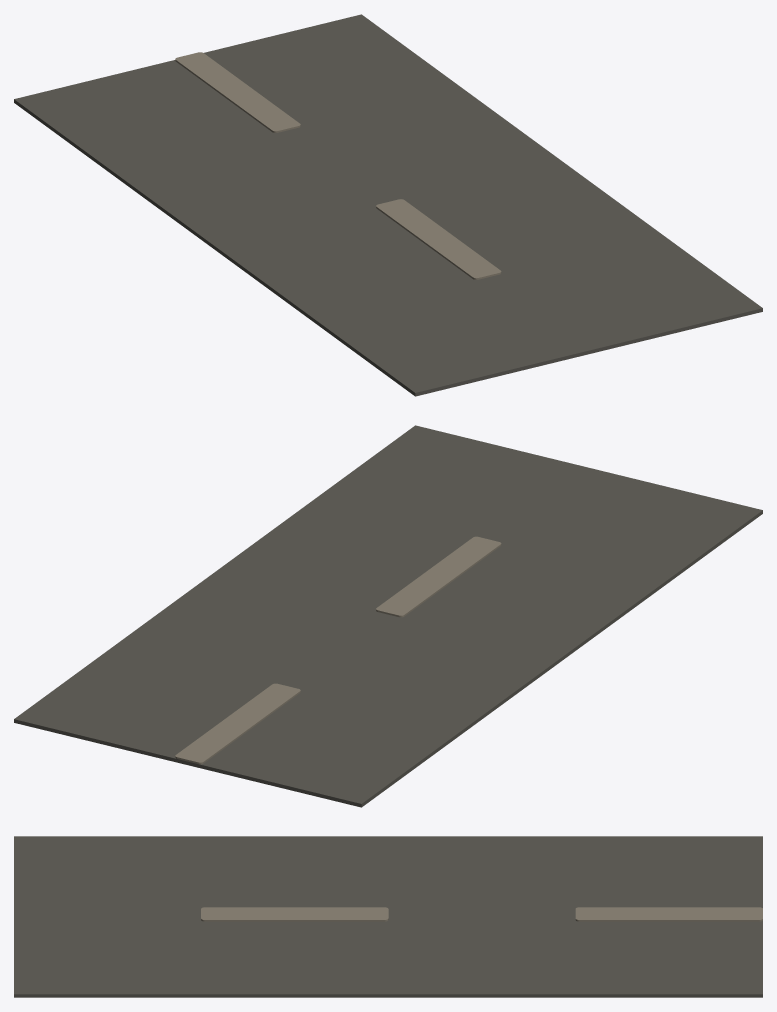
File: route.fbx
The picture shows the model from 3 angles, top to bottom: view 1: azimuth 30°, elevation 25°; view 2: azimuth 150°, elevation 25°; view 3: azimuth 270°, elevation 25°; orthographic projection. The views are drawn at different scales.
Parts seen in each view (by area): view 1: Route_3, Bande, Bande_4; view 2: Route_3, Bande_4, Bande; view 3: Route_3, Bande, Bande_4.
Part boxes in pixels (x1,y1,x2,y2): Route_3: [14, 14, 762, 396]; Bande: [175, 52, 300, 132]; Bande_4: [376, 199, 501, 279]; Route_3: [14, 425, 762, 807]; Bande_4: [376, 536, 501, 617]; Bande: [175, 683, 300, 764]; Route_3: [14, 836, 762, 997]; Bande: [575, 907, 762, 921]; Bande_4: [201, 907, 388, 921].
Size of the model in its own units: 1000 by 14.81 by 2000.
